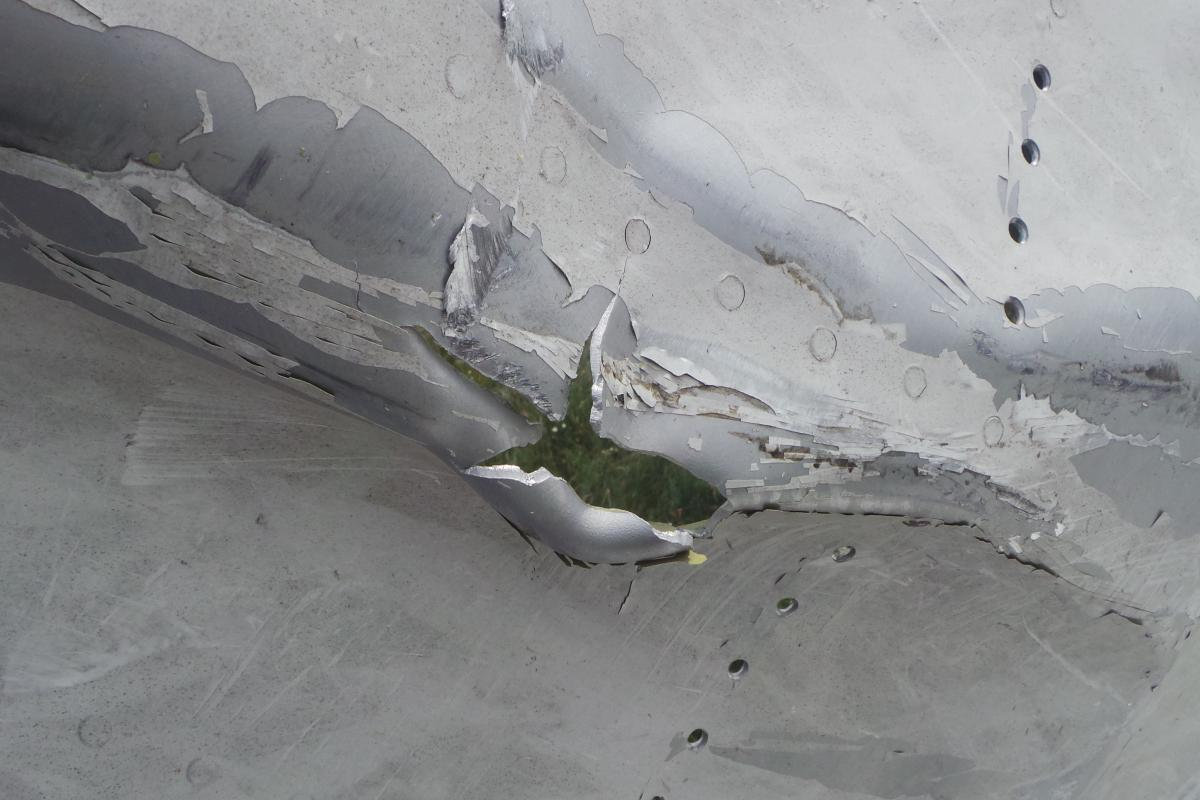Fuselage_damage: (465, 0, 1198, 458), (0, 2, 619, 344), (0, 174, 491, 452), (398, 294, 742, 558), (630, 408, 1058, 571)
